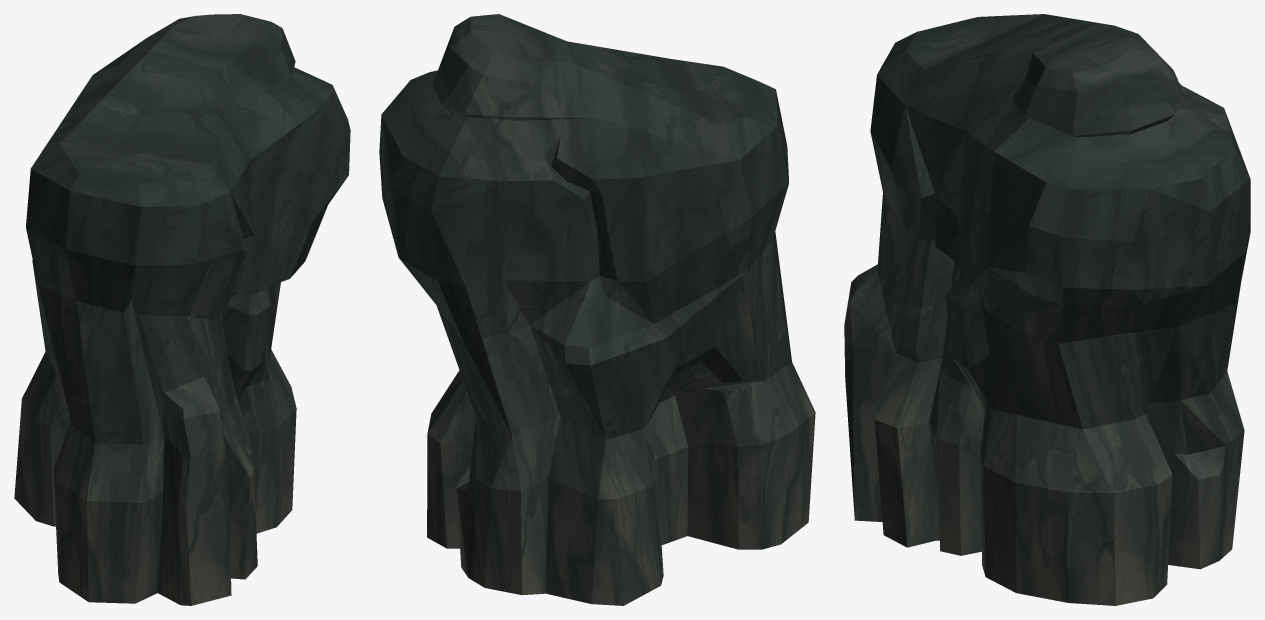
Rendered from ETC0610068.fbx.
3 views of the same model, side by side, from view 1: azimuth 30°, elevation 25°; view 2: azimuth 150°, elevation 25°; view 3: azimuth 270°, elevation 25° (orthographic). The views are drawn at different scales.
Visible parts, largest first — view 1: smETC0610068; view 2: smETC0610068; view 3: smETC0610068.
Boxes of the visible parts, x1,y1,x2,y2 form: smETC0610068: [14, 14, 350, 605]; smETC0610068: [379, 14, 815, 605]; smETC0610068: [844, 14, 1250, 605].
Bounding box in the file's own units: 317 × 429 × 302.
Materials: 1 (1 with a texture image).
